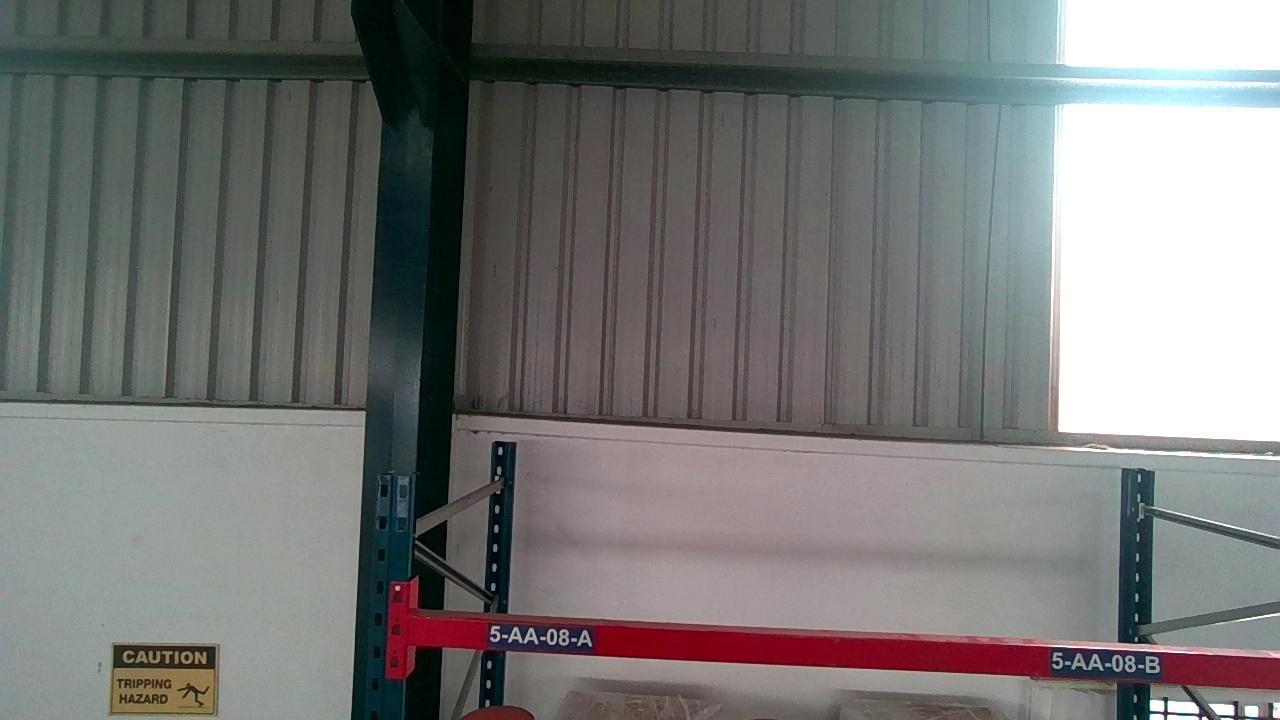h_rack: (407, 613, 1280, 690)
